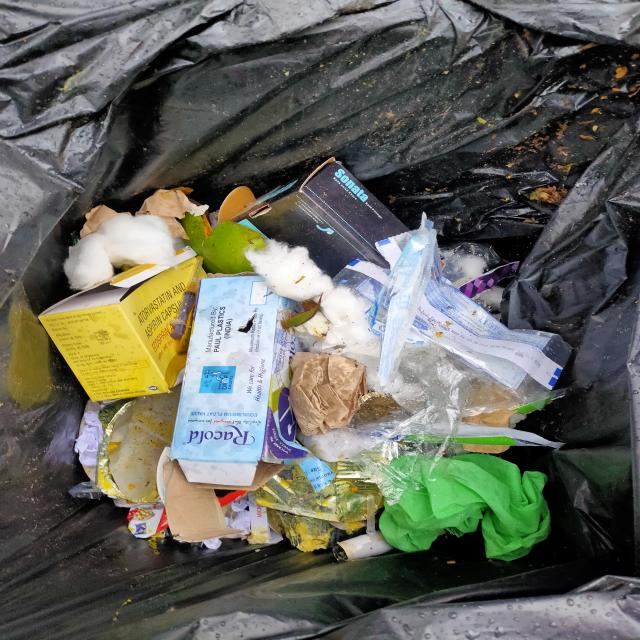B3: (335, 212, 558, 389), (171, 278, 304, 486), (37, 247, 196, 402), (231, 155, 393, 268), (65, 212, 177, 286), (250, 242, 330, 296), (324, 286, 373, 349), (367, 492, 377, 534)
